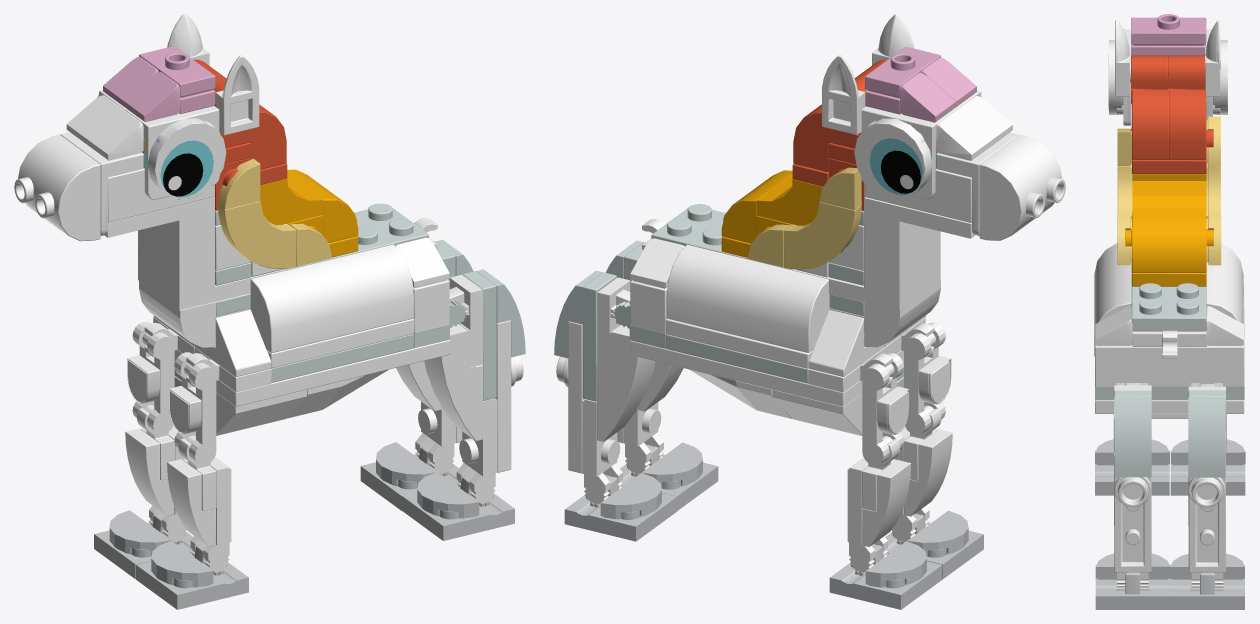
Rendered from Passo 47.fbx.
The picture shows the model from 3 angles, left to right: view 1: azimuth 30°, elevation 25°; view 2: azimuth 150°, elevation 25°; view 3: azimuth 270°, elevation 25°; orthographic projection. The views are drawn at different scales.
Parts seen in each view (by area): view 1: Brick_curved_2x4__1_.020, Bracket_5x2.017, Brick_curved_2x2.008, Slope_curved_3x1__1_.004, Plate_4x6.026, Tile_2x2.006, Slope_1x2.008, Slope_2x1_2.022, Hinge_plate_2x2__3_.001, Hinge_plate_2x2__1_.002, Plate_special_1x1_2__1_.003, Hinge_plate_2x1_2 (+48 smaller); view 2: Brick_curved_2x4.020, Bracket_5x2.017, Brick_curved_2x2.008, Slope_curved_3x1.004, Plate_4x6.026, Tile_2x2__1_.004, Slope_1x2.008, Slope_2x1_2__1_.022, Hinge_plate_2x2.002, Hinge_plate_2x2__2_.001, Plate_special_1x1_2.003, Hinge_plate_2x1_1.006 (+48 smaller); view 3: Brick_1x4.024, Brick_curved_2x1.013, Plate_2x4_1.018, Slope_curved_2x1_Inverted.010, Slope_curved_2x1_Inverted__1_.010, Plate_1x4.030, Plate_1x4__1_.030, Brick_cuved_1x2x1.012, Brick_cuved_1x2x1__1_.012, Hinge_plate_2x2__3_.001, Hinge_plate_2x2__2_.001, Brick_curved_2x4__1_.020 (+41 smaller).
Part boxes in pixels (x1=…): Brick_curved_2x4__1_.020: x1=250, y1=244, x2=413, y2=353; Bracket_5x2.017: x1=104, y1=196, x2=285, y2=310; Brick_curved_2x2.008: x1=14, y1=134, x2=100, y2=241; Slope_curved_3x1__1_.004: x1=424, y1=324, x2=482, y2=441; Plate_4x6.026: x1=174, y1=339, x2=450, y2=406; Tile_2x2.006: x1=218, y1=201, x2=296, y2=268; Slope_1x2.008: x1=66, y1=95, x2=143, y2=160; Slope_2x1_2.022: x1=195, y1=309, x2=271, y2=376; Hinge_plate_2x2__3_.001: x1=402, y1=474, x2=514, y2=540; Hinge_plate_2x2__1_.002: x1=136, y1=544, x2=248, y2=609; Plate_special_1x1_2__1_.003: x1=174, y1=352, x2=216, y2=464; Hinge_plate_2x1_2: x1=456, y1=398, x2=497, y2=504; Brick_curved_2x4.020: x1=666, y1=244, x2=829, y2=352; Bracket_5x2.017: x1=792, y1=197, x2=974, y2=310; Brick_curved_2x2.008: x1=979, y1=134, x2=1065, y2=240; Slope_curved_3x1.004: x1=596, y1=325, x2=655, y2=441; Plate_4x6.026: x1=629, y1=340, x2=903, y2=406; Tile_2x2__1_.004: x1=783, y1=202, x2=861, y2=269; Slope_1x2.008: x1=936, y1=96, x2=1012, y2=160; Slope_2x1_2__1_.022: x1=808, y1=309, x2=884, y2=376; Hinge_plate_2x2.002: x1=829, y1=544, x2=942, y2=609; Hinge_plate_2x2__2_.001: x1=564, y1=475, x2=677, y2=541; Plate_special_1x1_2.003: x1=862, y1=353, x2=904, y2=465; Hinge_plate_2x1_1.006: x1=582, y1=399, x2=622, y2=505; Brick_1x4.024: x1=1095, y1=332, x2=1244, y2=386; Brick_curved_2x1.013: x1=1132, y1=217, x2=1206, y2=272; Plate_2x4_1.018: x1=1131, y1=262, x2=1206, y2=331; Slope_curved_2x1_Inverted.010: x1=1114, y1=397, x2=1151, y2=477; Slope_curved_2x1_Inverted__1_.010: x1=1188, y1=397, x2=1225, y2=477; Plate_1x4.030: x1=1188, y1=432, x2=1225, y2=572; Plate_1x4__1_.030: x1=1114, y1=477, x2=1151, y2=572; Brick_cuved_1x2x1.012: x1=1169, y1=90, x2=1205, y2=159; Brick_cuved_1x2x1__1_.012: x1=1132, y1=90, x2=1168, y2=159; Hinge_plate_2x2__3_.001: x1=1095, y1=564, x2=1170, y2=609; Hinge_plate_2x2__2_.001: x1=1170, y1=565, x2=1244, y2=609; Brick_curved_2x4__1_.020: x1=1094, y1=243, x2=1131, y2=356.
Size of the model in its own units: 1.04 by 1.12 by 0.3236.
